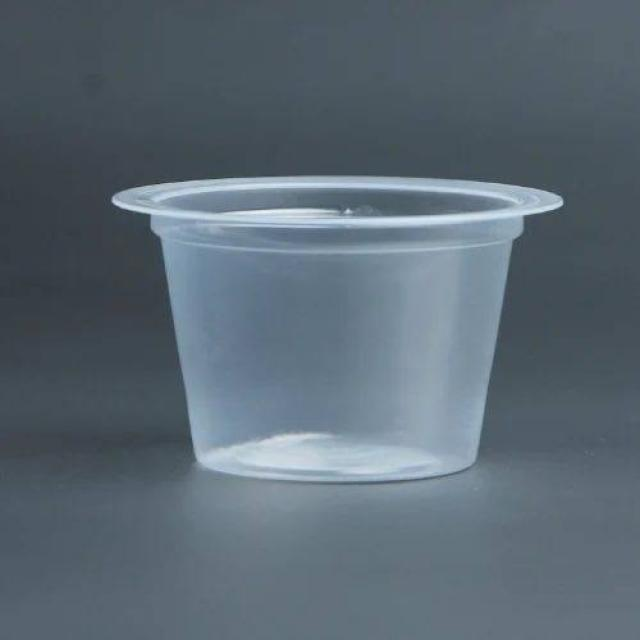plastic cup: (70, 145, 591, 531)
